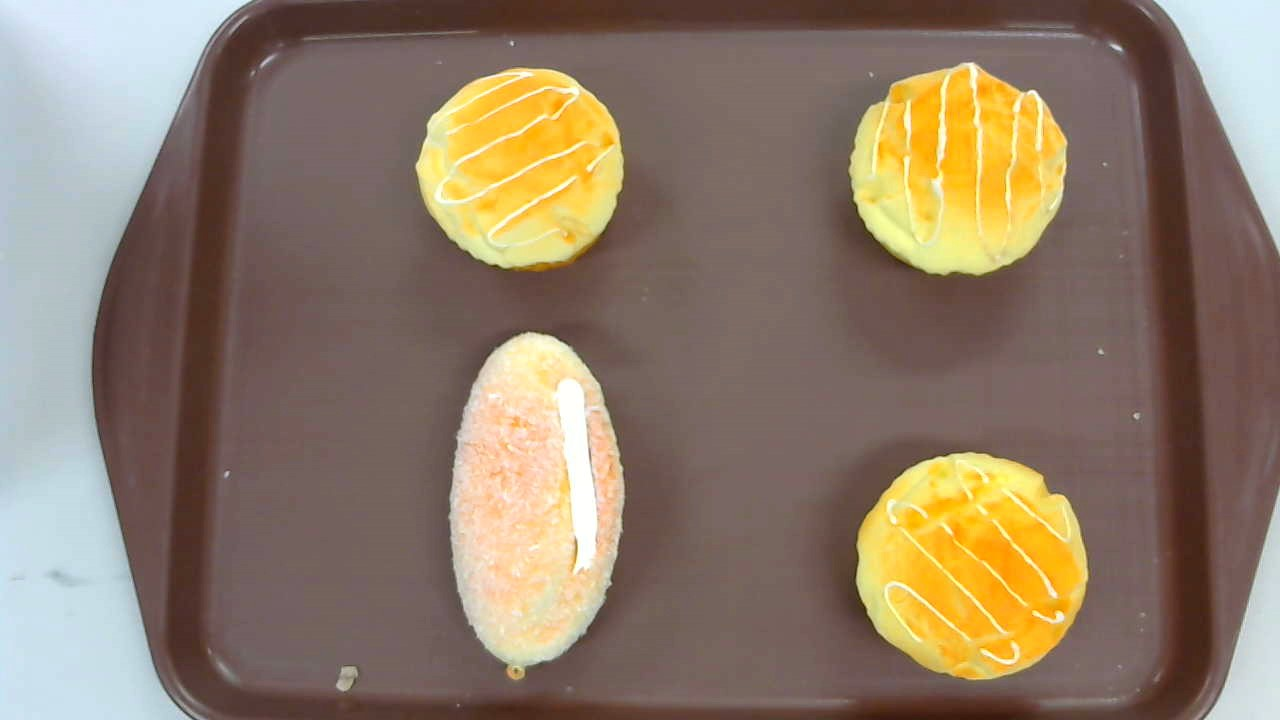coconut: (448, 330, 627, 680)
cupcake: (856, 452, 1088, 680), (847, 62, 1068, 278), (414, 65, 625, 271)
